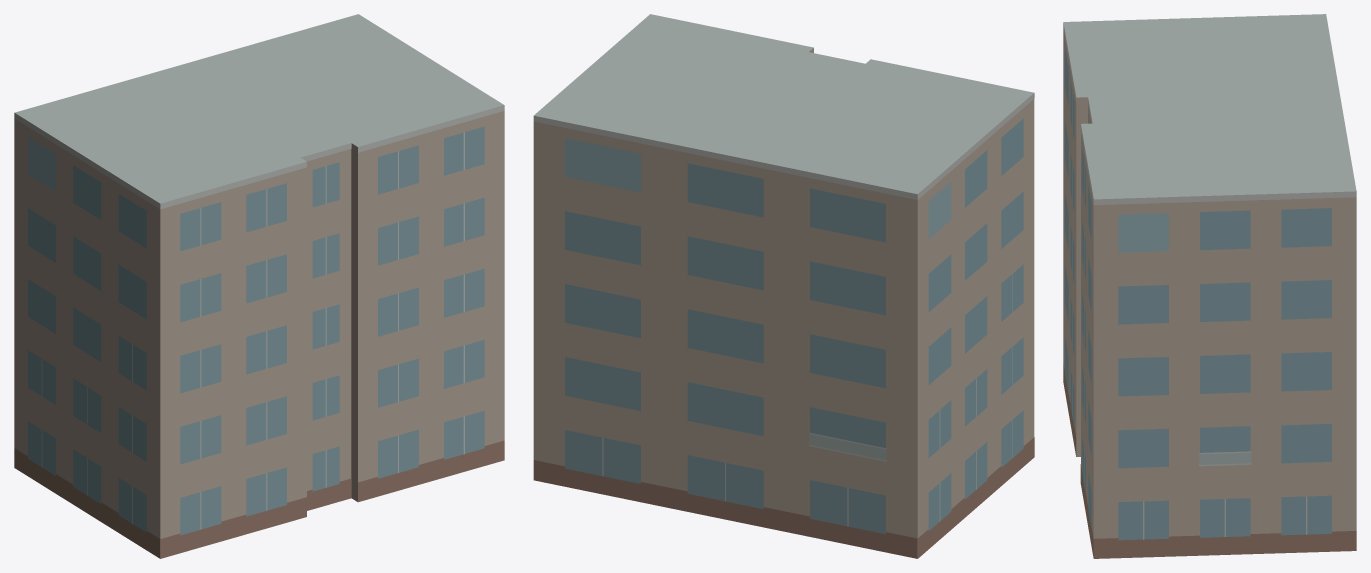
The model's file is survey-upis-32621010.glb.
3 renders of one model, left to right at view 1: azimuth 30°, elevation 25°; view 2: azimuth 150°, elevation 25°; view 3: azimuth 270°, elevation 25°, orthographic. The views are drawn at different scales.
Parts seen in each view (by area): view 1: survey-upis-32621010.tmp; view 2: survey-upis-32621010.tmp; view 3: survey-upis-32621010.tmp.
Part boxes in pixels (x1=…): survey-upis-32621010.tmp: x1=14, y1=14, x2=504, y2=558; survey-upis-32621010.tmp: x1=533, y1=14, x2=1034, y2=558; survey-upis-32621010.tmp: x1=1063, y1=14, x2=1356, y2=558.
Bounding box in the file's own units: 16.88 × 15.25 × 11.29.
